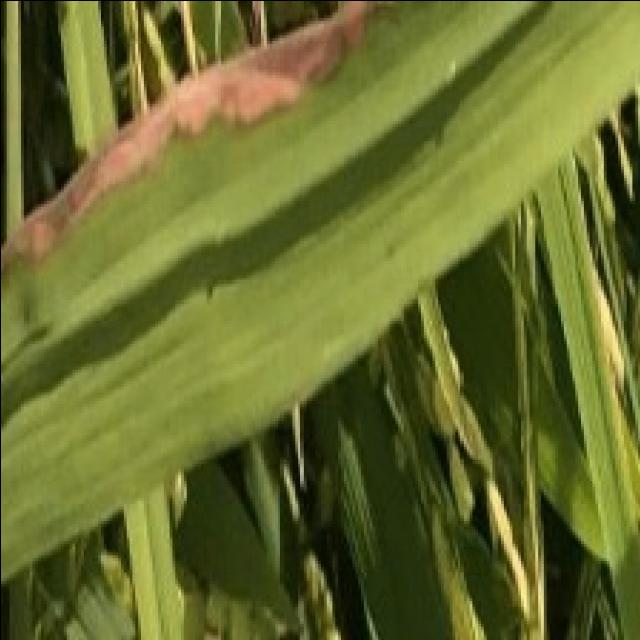Unhealthy: (0, 0, 374, 277)
